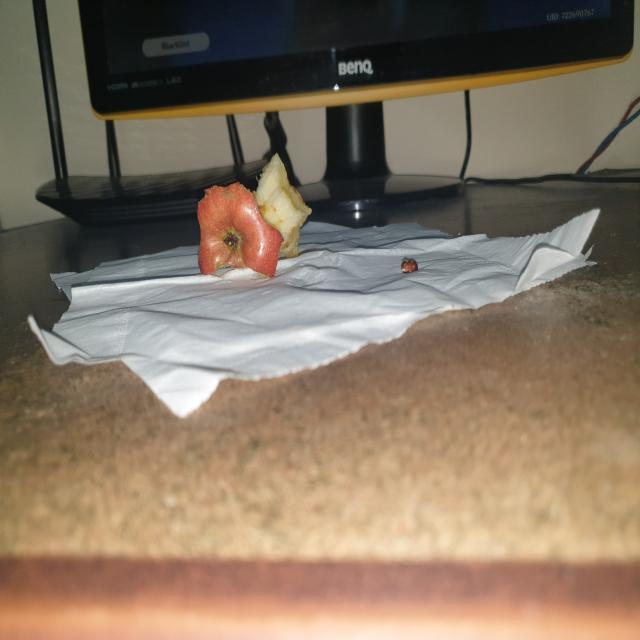apple: (194, 147, 312, 300)
